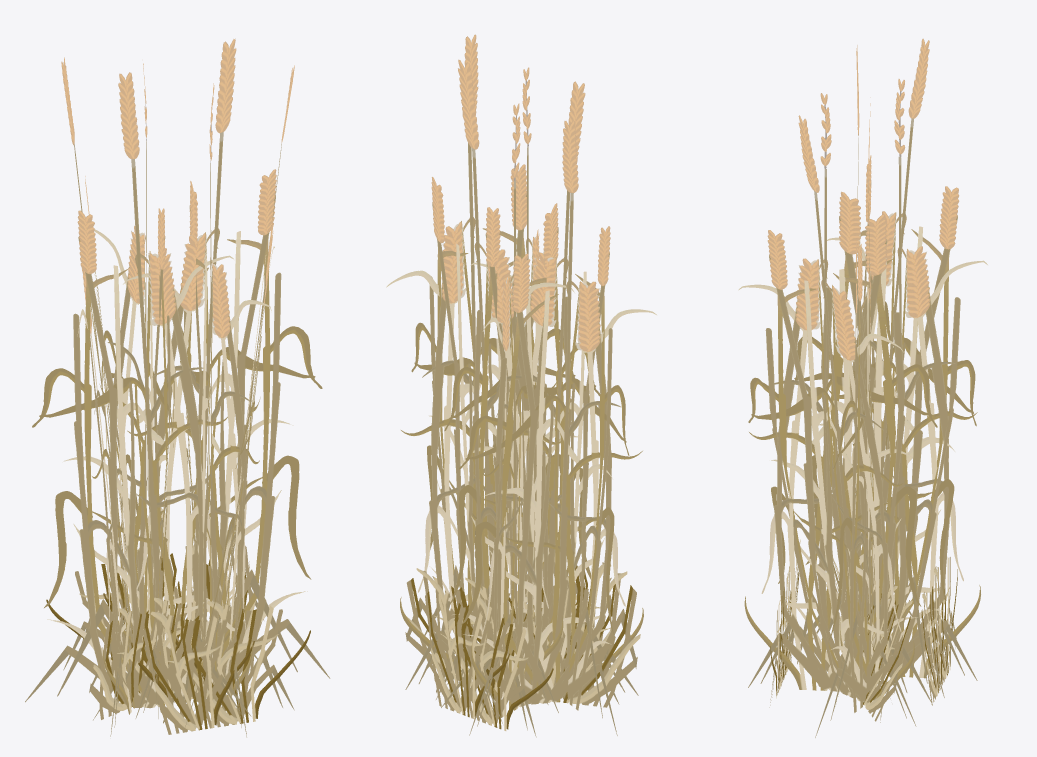
Rendered from PT_Wheat_01.fbx.
3 views of the same model, side by side, from view 1: azimuth 30°, elevation 25°; view 2: azimuth 150°, elevation 25°; view 3: azimuth 270°, elevation 25° (orthographic). The views are drawn at different scales.
Parts seen in each view (by area): view 1: PT_Wheat_01_LOD0; view 2: PT_Wheat_01_LOD0; view 3: PT_Wheat_01_LOD0.
Boxes of the visible parts, x1,y1,x2,y2 form: PT_Wheat_01_LOD0: (25,38,330,737); PT_Wheat_01_LOD0: (386,34,656,737); PT_Wheat_01_LOD0: (738,38,987,737).
Size of what is drawn, in the model's own units: 59.2 by 125 by 57.15.
